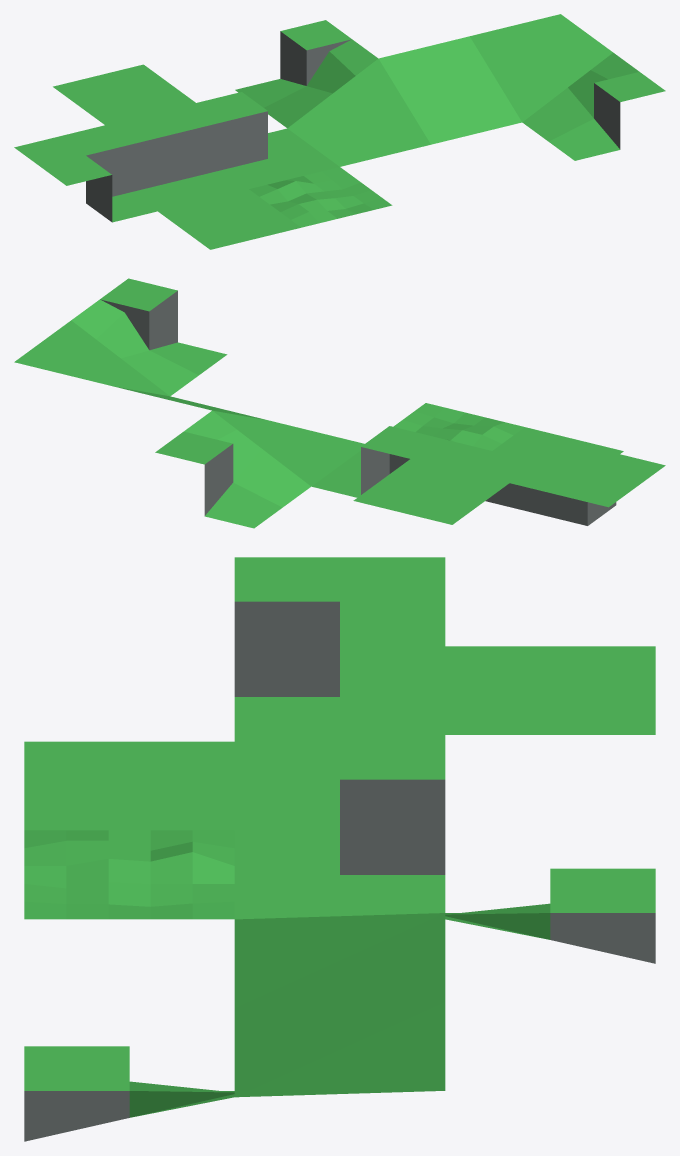
Rendered from CubicTerrain.fbx.
3 renders of one model, top to bottom at view 1: azimuth 30°, elevation 25°; view 2: azimuth 150°, elevation 25°; view 3: azimuth 270°, elevation 25°, orthographic. The views are drawn at different scales.
Visible parts, largest first — view 1: BasicCliff, BasicSlope, BasicSlopeCornerOuter, BasicSlopeCornerInner, BasicCliffToSlopeTransition, BasicSlopeToCliffTransition, BasicCliffCornerInner, BasicCliffCornerOuter, BasicFloor, BumpyFloor, BasicRaisedFloor; view 2: BasicSlopeToCliffTransition, BasicCliffToSlopeTransition, BasicCliffCornerInner, BasicRaisedFloor, BasicSlopeCornerInner, BasicSlopeCornerOuter, BasicCliff, BasicCliffCornerOuter, BumpyFloor, BasicFloor, BasicSlope; view 3: BasicCliffCornerInner, BasicCliffCornerOuter, BasicFloor, BumpyFloor, BasicCliff, BasicSlope, BasicRaisedFloor, BasicSlopeToCliffTransition, BasicCliffToSlopeTransition, BasicSlopeCornerInner, BasicSlopeCornerOuter.
Part boxes in pixels (bbox=[...]): BasicCliff: bbox=[105, 103, 248, 211]; BasicSlope: bbox=[378, 36, 521, 144]; BasicSlopeCornerOuter: bbox=[287, 58, 430, 166]; BasicSlopeCornerInner: bbox=[470, 14, 612, 122]; BasicCliffToSlopeTransition: bbox=[522, 52, 665, 160]; BasicSlopeToCliffTransition: bbox=[235, 20, 377, 128]; BasicCliffCornerInner: bbox=[14, 125, 157, 222]; BasicCliffCornerOuter: bbox=[196, 92, 339, 188]; BasicFloor: bbox=[158, 189, 300, 249]; BumpyFloor: bbox=[249, 167, 392, 227]; BasicRaisedFloor: bbox=[53, 64, 195, 124]; BasicSlopeToCliffTransition: bbox=[155, 410, 310, 528]; BasicCliffToSlopeTransition: bbox=[71, 278, 227, 396]; BasicCliffCornerInner: bbox=[510, 453, 665, 525]; BasicRaisedFloor: bbox=[353, 459, 509, 524]; BasicSlopeCornerInner: bbox=[14, 320, 169, 396]; BasicSlopeCornerOuter: bbox=[213, 410, 364, 486]; BasicCliff: bbox=[411, 438, 538, 513]; BasicCliffCornerOuter: bbox=[312, 426, 438, 497]; BumpyFloor: bbox=[393, 403, 524, 450]; BasicFloor: bbox=[493, 427, 623, 474]; BasicSlope: bbox=[115, 386, 267, 420]; BasicCliffCornerInner: bbox=[234, 557, 445, 741]; BasicCliffCornerOuter: bbox=[234, 735, 445, 919]; BasicFloor: bbox=[24, 741, 234, 830]; BumpyFloor: bbox=[24, 830, 234, 919]; BasicCliff: bbox=[234, 646, 445, 830]; BasicSlope: bbox=[234, 913, 445, 1090]; BasicRaisedFloor: bbox=[445, 646, 655, 734]; BasicSlopeToCliffTransition: bbox=[445, 868, 655, 963]; BasicCliffToSlopeTransition: bbox=[24, 1046, 234, 1141]; BasicSlopeCornerInner: bbox=[234, 1002, 445, 1097]; BasicSlopeCornerOuter: bbox=[234, 913, 444, 1007].
Bounding box in the file's own units: 2400 × 211 × 1200.
Materials: 1 (1 with a texture image).
